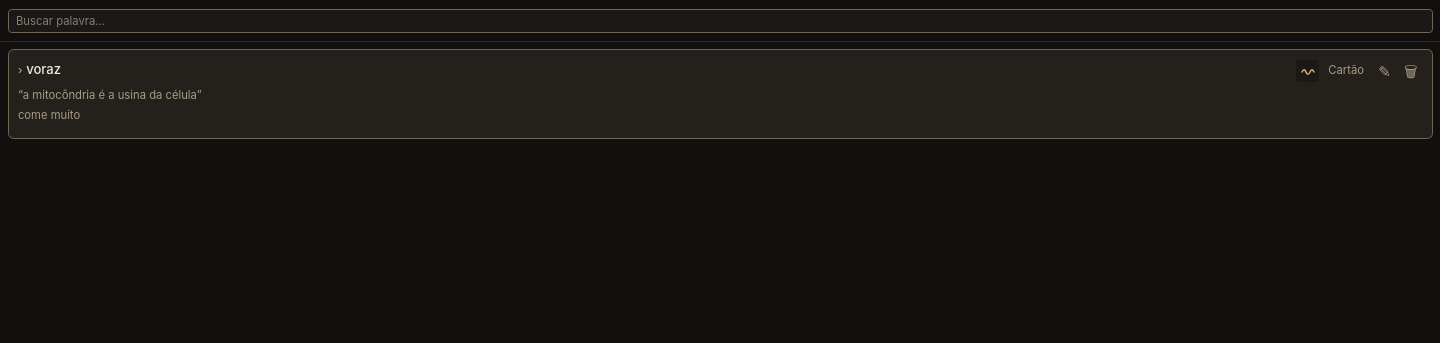
Test case: o card — clicar abre o significado inteiro, os sinônimos e os antônimos › o lápis edita os três campos e salva com atualizarPalavra(id, significado, sinônimos, antônimos)
Click the button named "Editar voraz" at x=1385, y=71, box 1373,60 -> 1396,82
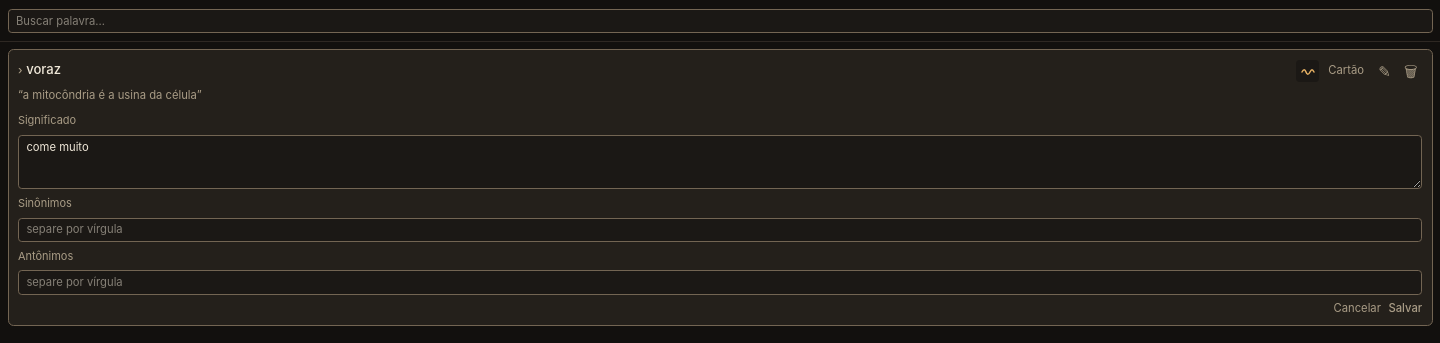
Expected: the text box labelled "Significado" holds "come muito"
Replace the text in the text box labelled "Significado" with "  que come com avidez " at x=720, y=162, box 18,135 -> 1422,189
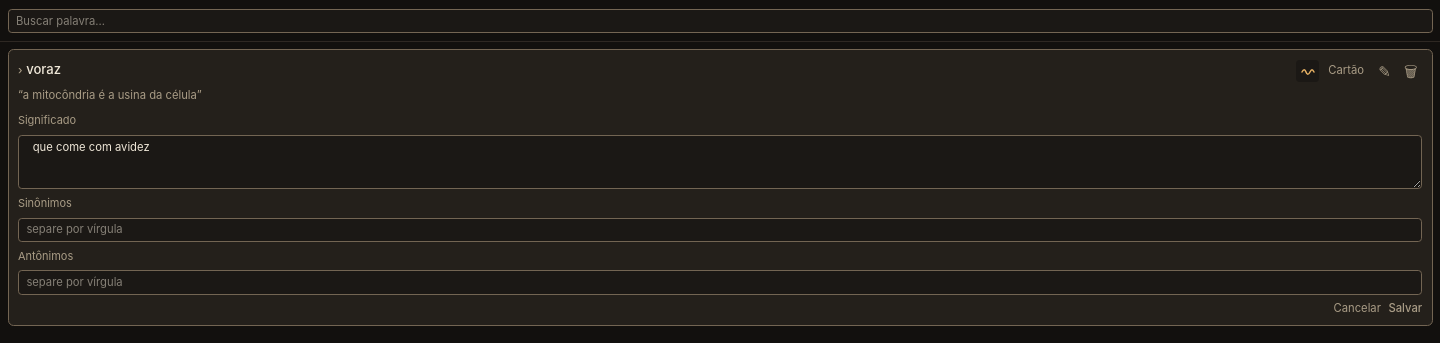
Type " ávido , ,faminto" into the field labelled "Sinônimos" at x=720, y=230, box 18,218 -> 1422,242
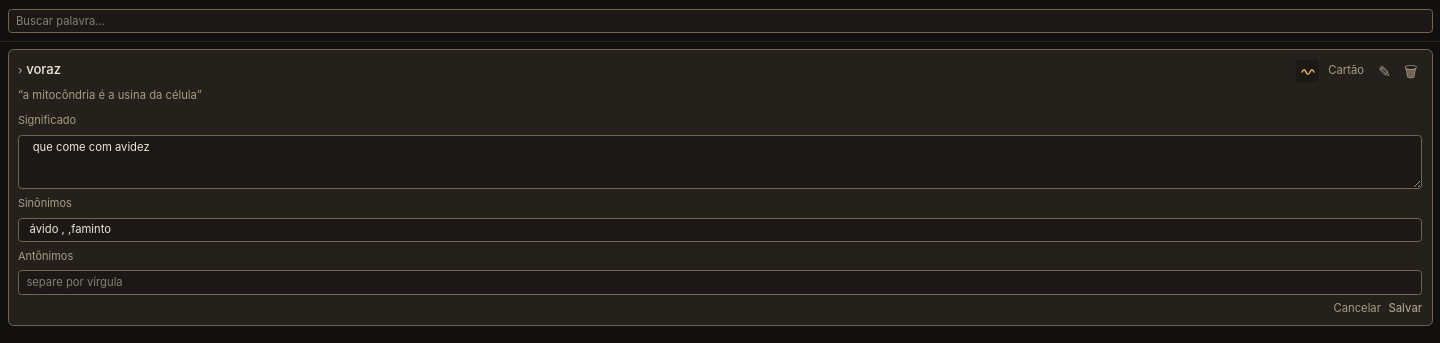
Type "saciado" into the field labelled "Antônimos" at x=720, y=283, box 18,270 -> 1422,295
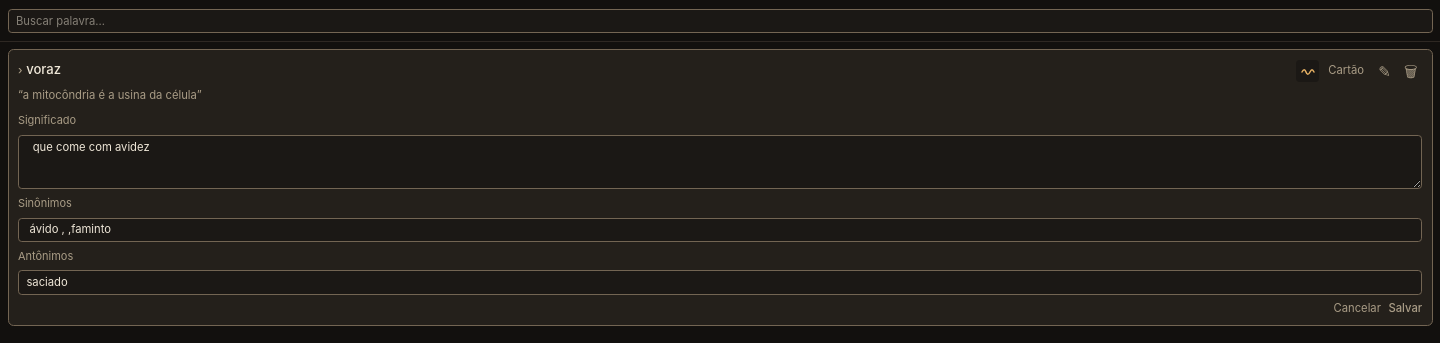
Click the button "Salvar" at x=1405, y=308, box 1388,300 -> 1422,316
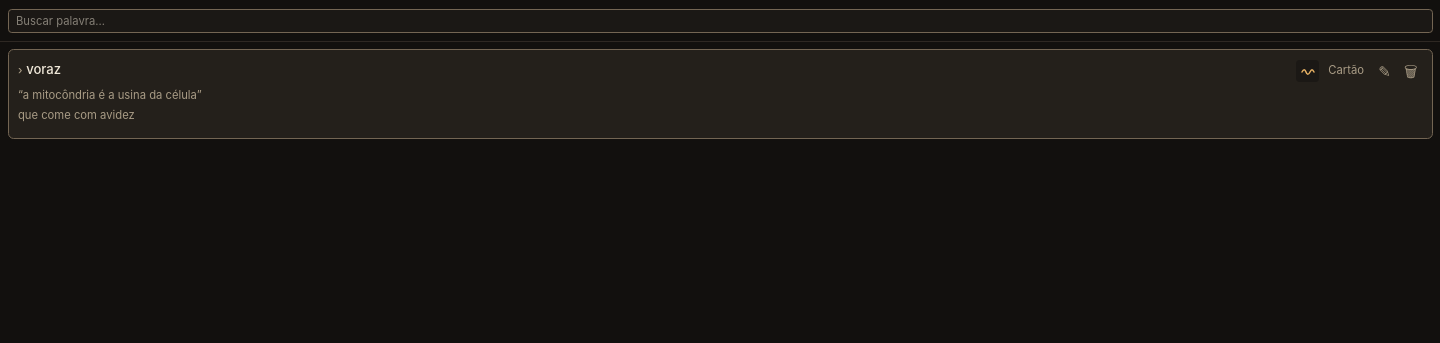
Expected: the text "que come com avidez" is shown, 18,108 -> 135,122
Expected: the label labelled "Significado" is gone
Click the button "› voraz" at x=44, y=69, box 18,60 -> 1289,78
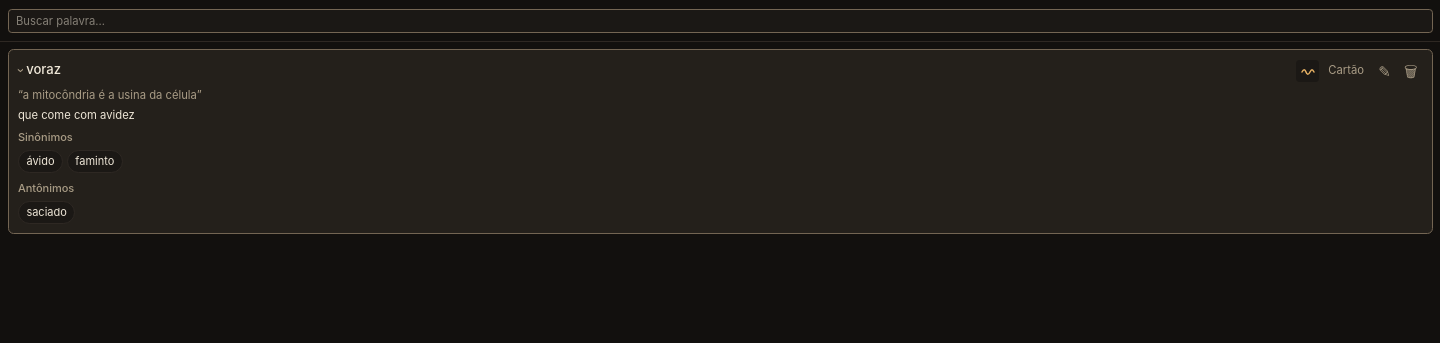
Expected: the list item "faminto" is shown, 67,150 -> 123,173
